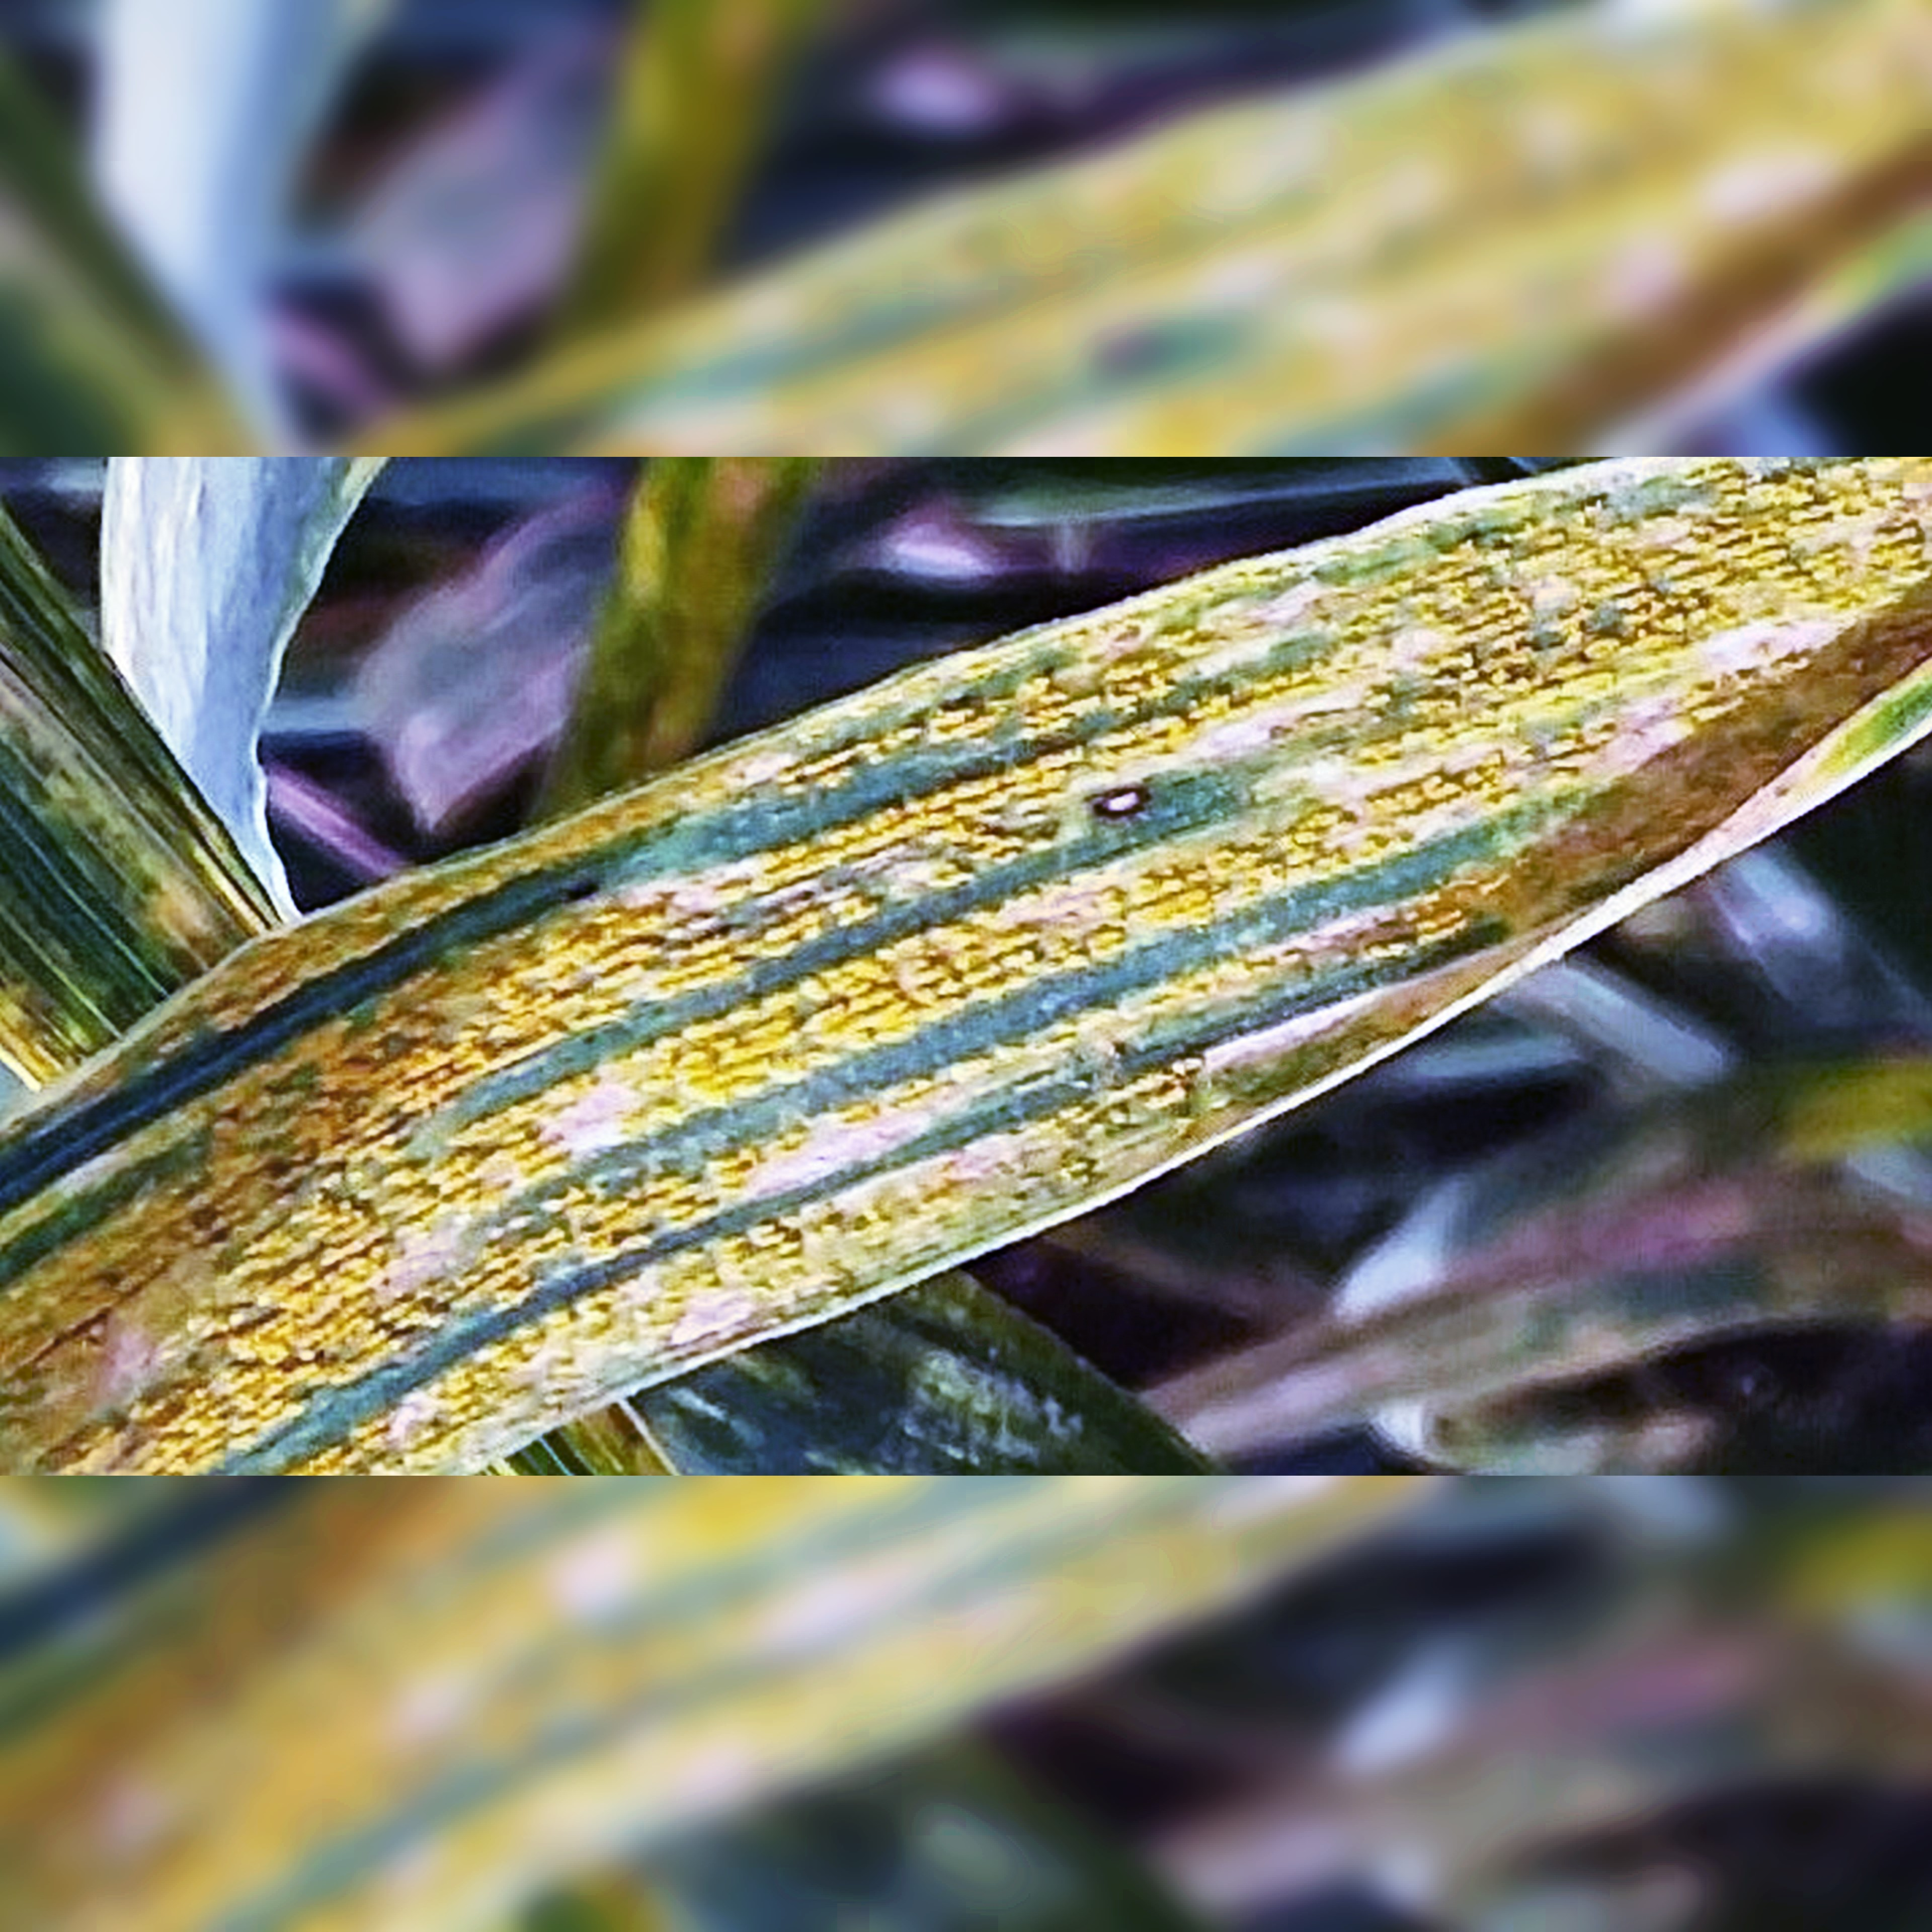Leaf Rust: (212, 510, 1812, 1447)
